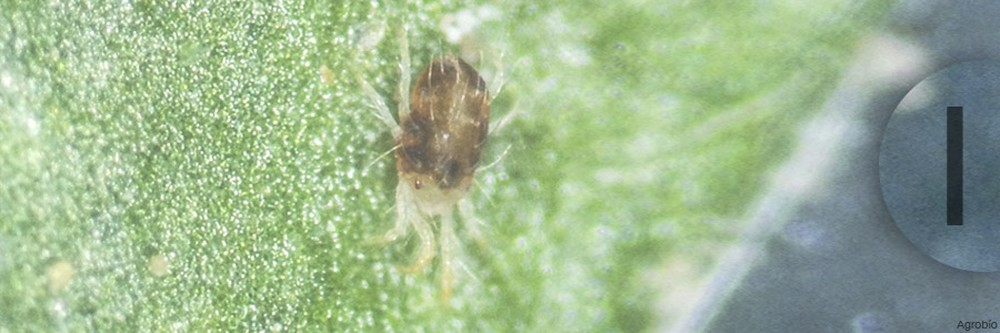Aracnido Rojo: (352, 14, 550, 294)
